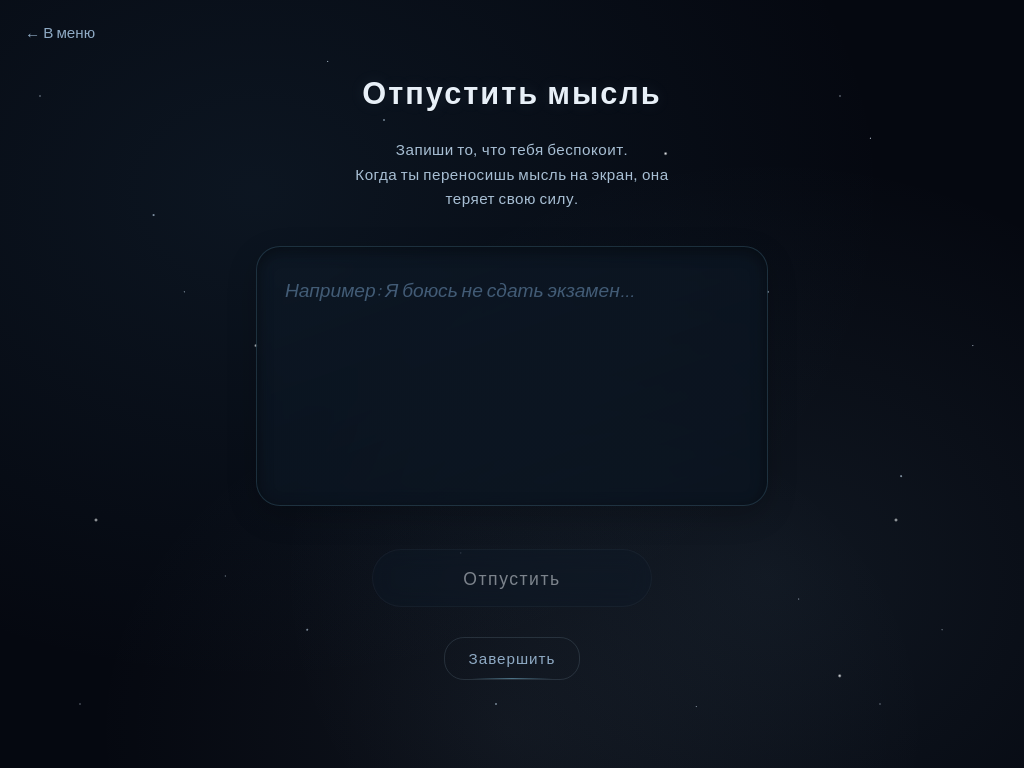
Test: ThoughtsScreen › разблокирует кнопку при вводе текста
The width and height of the screenshot is (1024, 768).
Type "Я боюсь" into the text box with placeholder "Например: Я боюсь не сдать экзамен..." at (512, 376), box top-left (256, 246), bottom-right (768, 506)
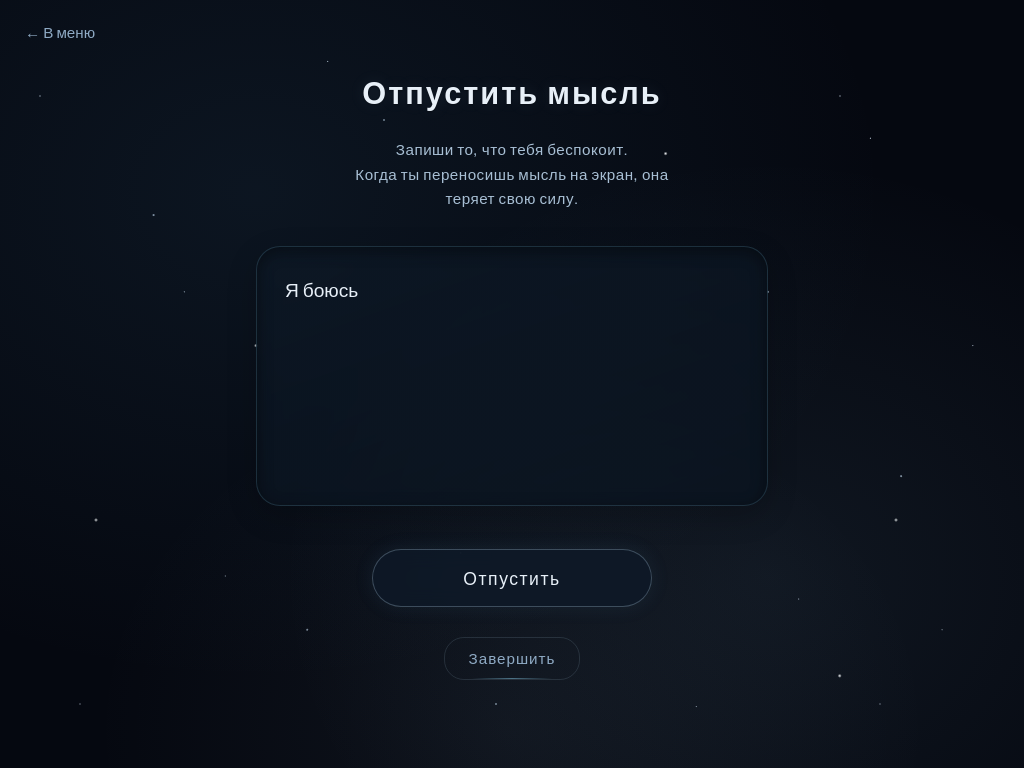
Expected: the button "Отпустить" is enabled, top-left (372, 549), bottom-right (652, 607)
